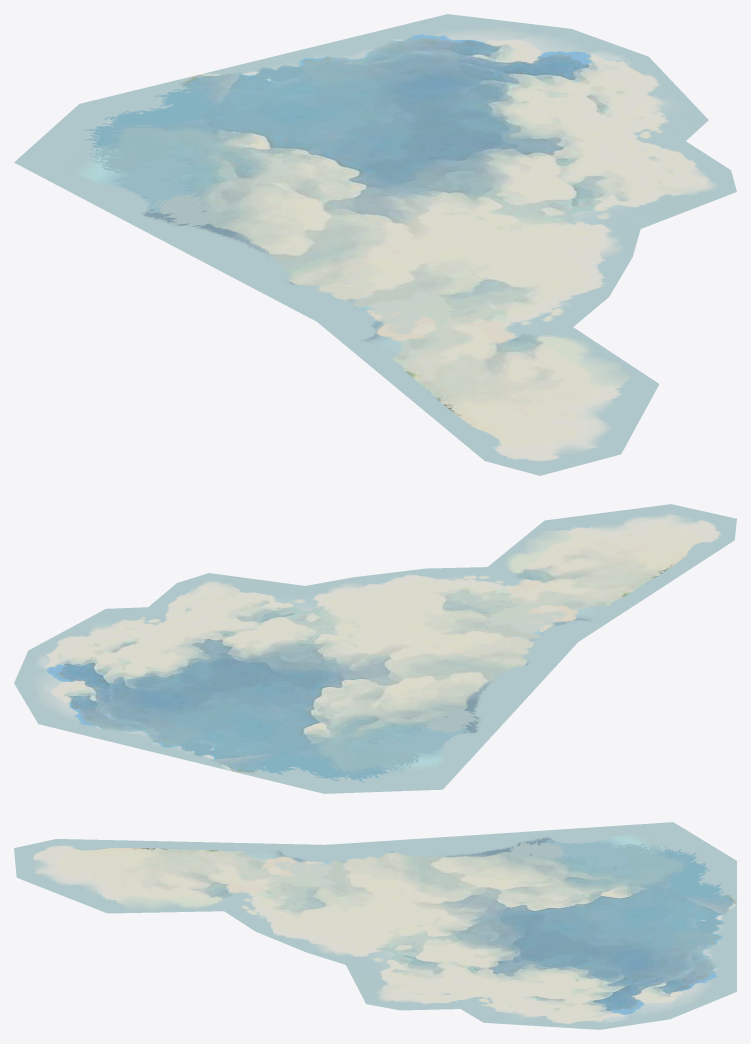
The model's file is SM_Cloud_03.fbx.
The picture shows the model from 3 angles, top to bottom: view 1: azimuth 30°, elevation 25°; view 2: azimuth 150°, elevation 25°; view 3: azimuth 270°, elevation 25°; orthographic projection. The views are drawn at different scales.
Parts seen in each view (by area): view 1: SM_Cloud_03_LOD0; view 2: SM_Cloud_03_LOD0; view 3: SM_Cloud_03_LOD0.
Boxes of the visible parts, x1,y1,x2,y2 form: SM_Cloud_03_LOD0: (14,14,736,475); SM_Cloud_03_LOD0: (14,504,736,793); SM_Cloud_03_LOD0: (14,822,736,1029).
Bounding box in the file's own units: 569 × 837 × 6.92e-06.
1 material, 1 textured.
